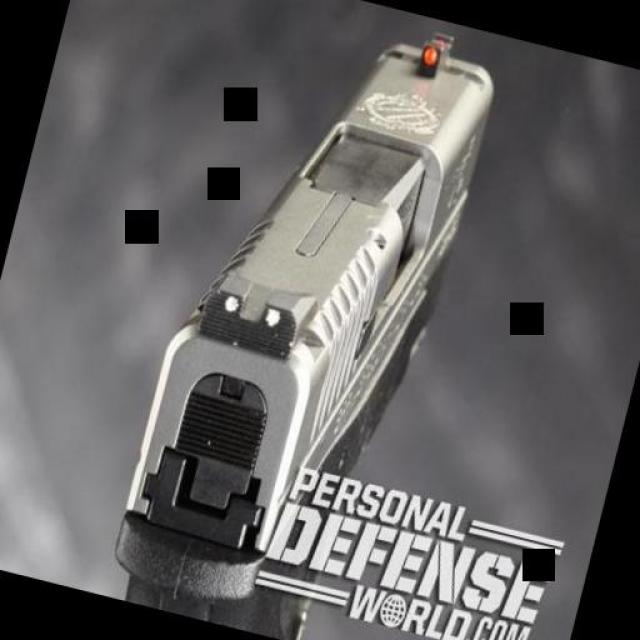gun: (72, 0, 506, 640)
